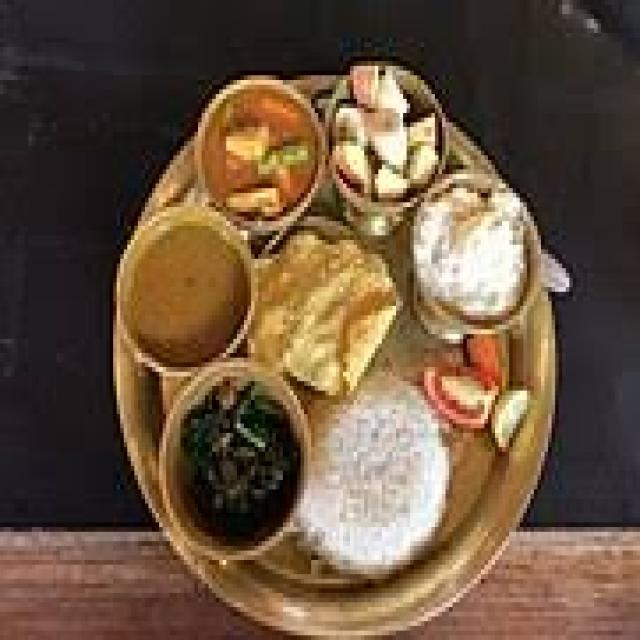curd: (296, 381, 456, 586)
dal: (124, 221, 250, 365)
papad: (245, 220, 402, 399)
raita: (411, 172, 531, 327)
veg: (202, 71, 321, 232)
